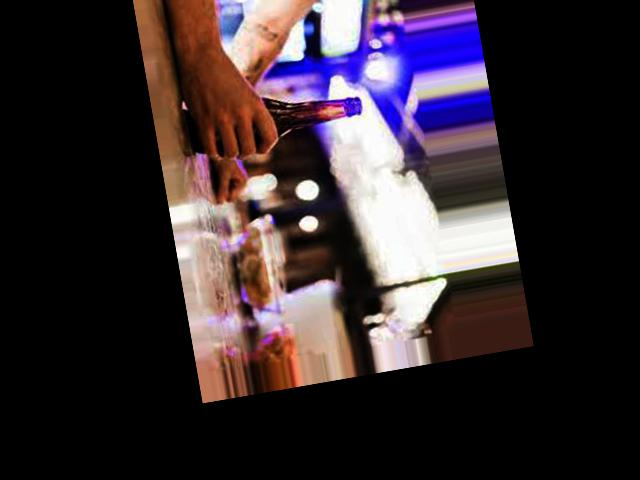beer: (186, 82, 365, 154)
